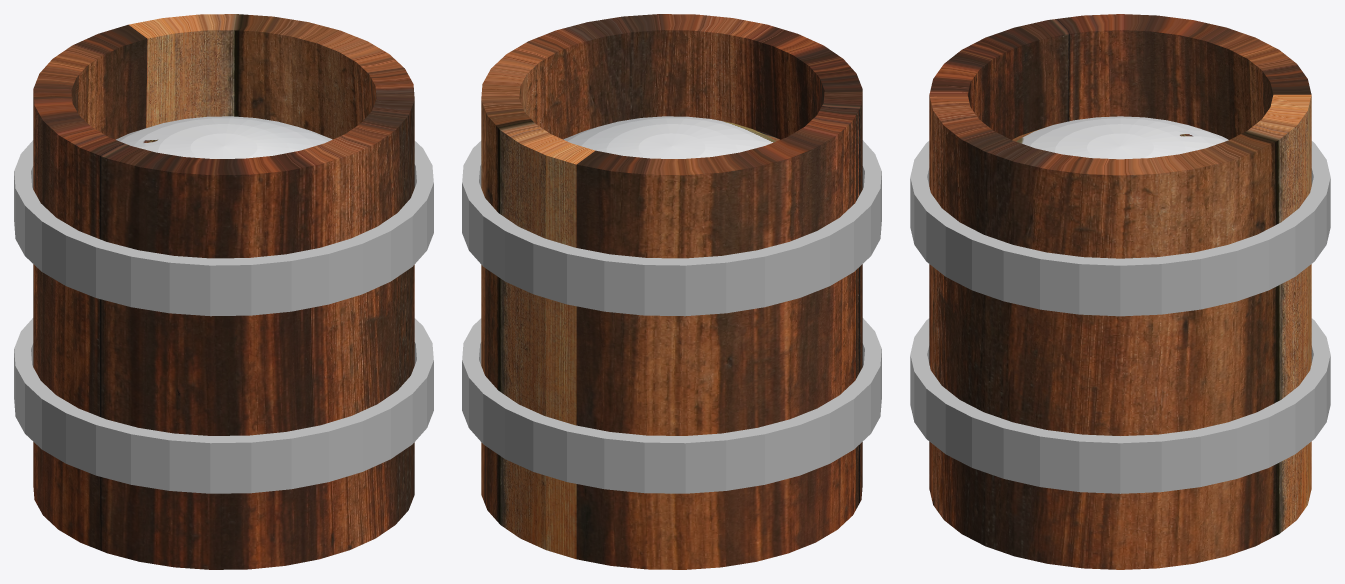
The model's file is miso.fbx.
3 renders of one model, left to right at view 1: azimuth 30°, elevation 25°; view 2: azimuth 150°, elevation 25°; view 3: azimuth 270°, elevation 25°, orthographic.
Parts seen in each view (by area): view 1: 円柱, 円柱.001, 円柱.002, 球; view 2: 円柱, 円柱.001, 円柱.002, 球; view 3: 円柱, 円柱.001, 円柱.002, 球.
Boxes of the visible parts, left/top/right/bottom form: 円柱: left=33, top=14, right=414, bottom=569; 円柱.001: left=14, top=318, right=433, bottom=493; 円柱.002: left=14, top=140, right=433, bottom=316; 球: left=116, top=116, right=332, bottom=158; 円柱: left=481, top=14, right=862, bottom=569; 円柱.001: left=462, top=318, right=881, bottom=493; 円柱.002: left=462, top=140, right=881, bottom=316; 球: left=563, top=116, right=779, bottom=158; 円柱: left=929, top=14, right=1311, bottom=569; 円柱.001: left=910, top=318, right=1330, bottom=493; 円柱.002: left=910, top=141, right=1330, bottom=316; 球: left=1012, top=116, right=1228, bottom=159.
Size of the model in its own units: 22 by 22.78 by 22.
